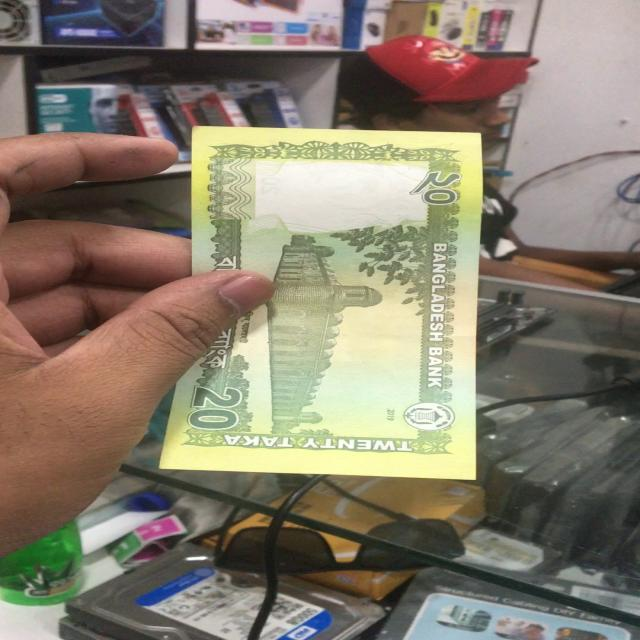Taka: (175, 119, 480, 482)
